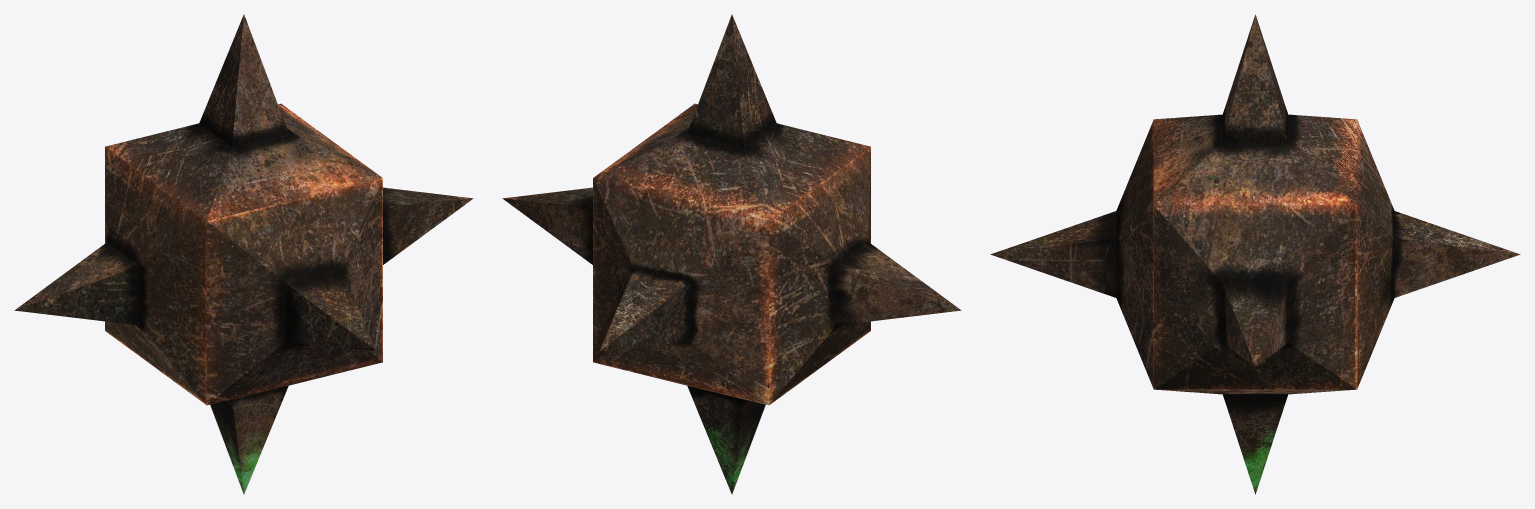
The model's file is pincho.fbx.
The picture shows the model from 3 angles, left to right: view 1: azimuth 30°, elevation 25°; view 2: azimuth 150°, elevation 25°; view 3: azimuth 270°, elevation 25°; orthographic projection.
Visible parts, largest first — view 1: Pinche; view 2: Pinche; view 3: Pinche.
Part boxes in pixels (bbox=[...]): Pinche: bbox=[14, 14, 473, 494]; Pinche: bbox=[502, 14, 961, 494]; Pinche: bbox=[990, 14, 1520, 494].
Bounding box in the file's own units: 600 × 600 × 600.
